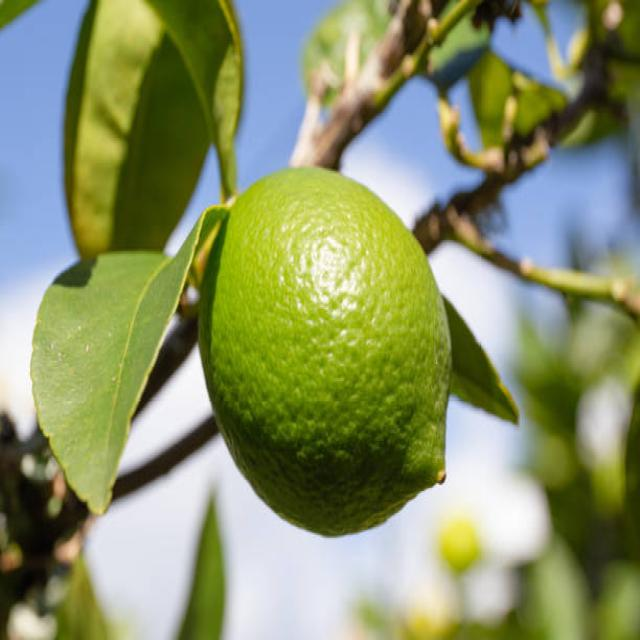Lemon: (196, 166, 454, 542)
